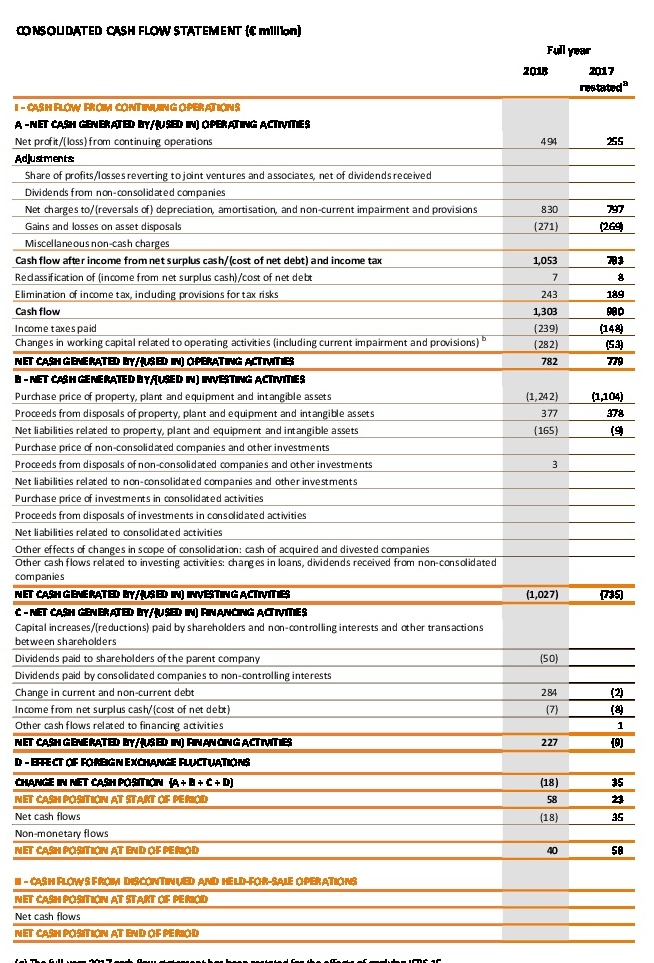table: (0, 0, 654, 963)
